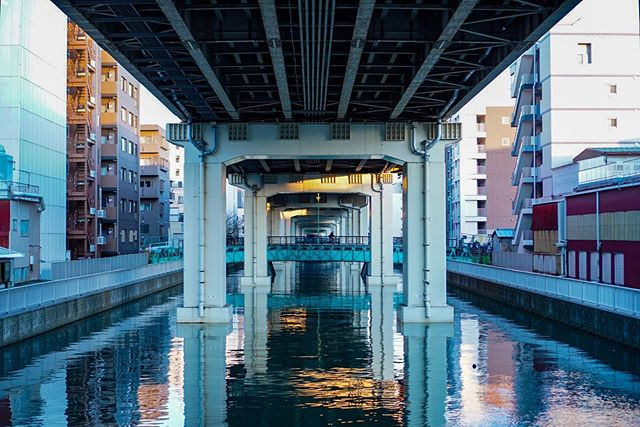building: (512, 4, 640, 287), (1, 1, 74, 268), (60, 27, 137, 265), (449, 95, 517, 253), (126, 119, 172, 248)
collumn: (166, 120, 242, 334), (389, 124, 465, 338), (358, 162, 404, 291), (233, 168, 279, 297)
river: (22, 261, 640, 427)
